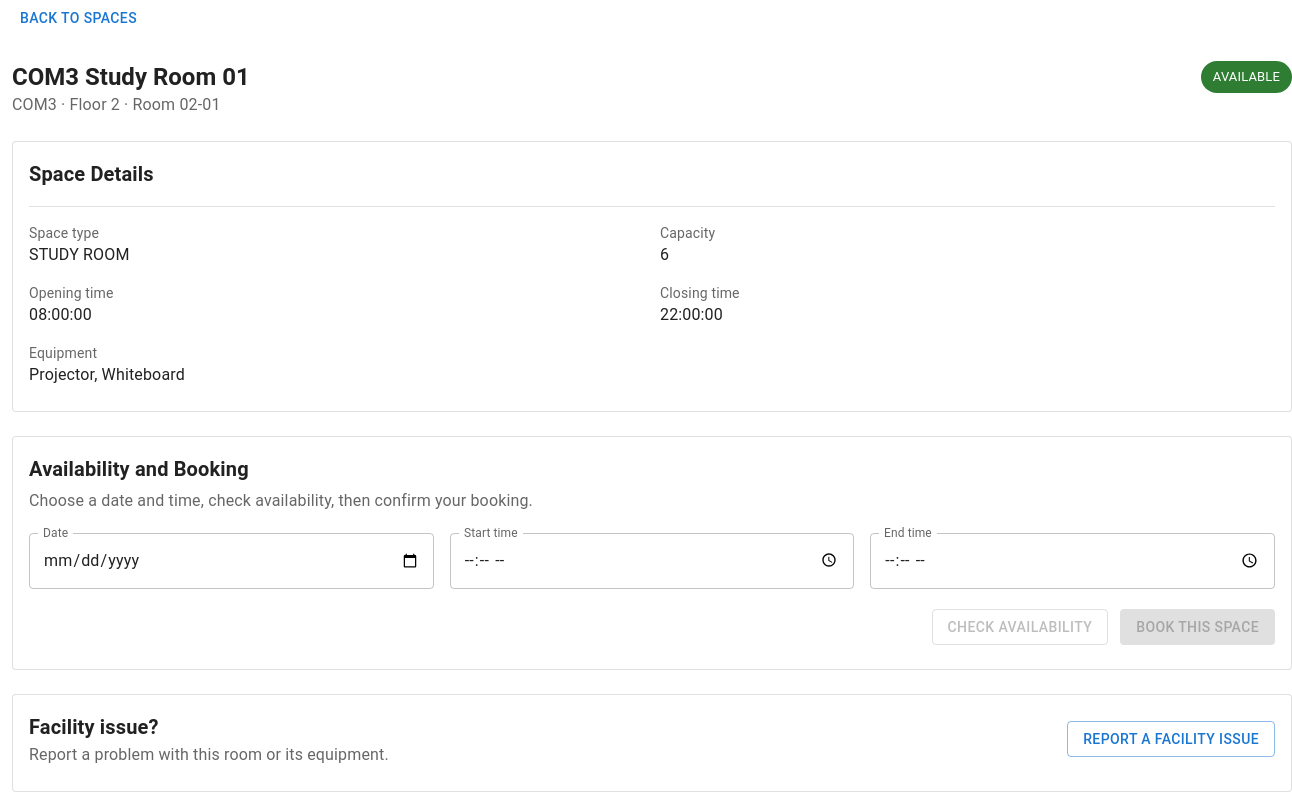
it: SpaceDetailsPage availability and booking › shows a friendly booking conflict when the space is unavailable
Expected: the heading "COM3 Study Room 01" is shown, [12, 60, 250, 92]
Type "2026-08-13" into the date field labelled "Date" at [231, 561], box [29, 533, 434, 589]
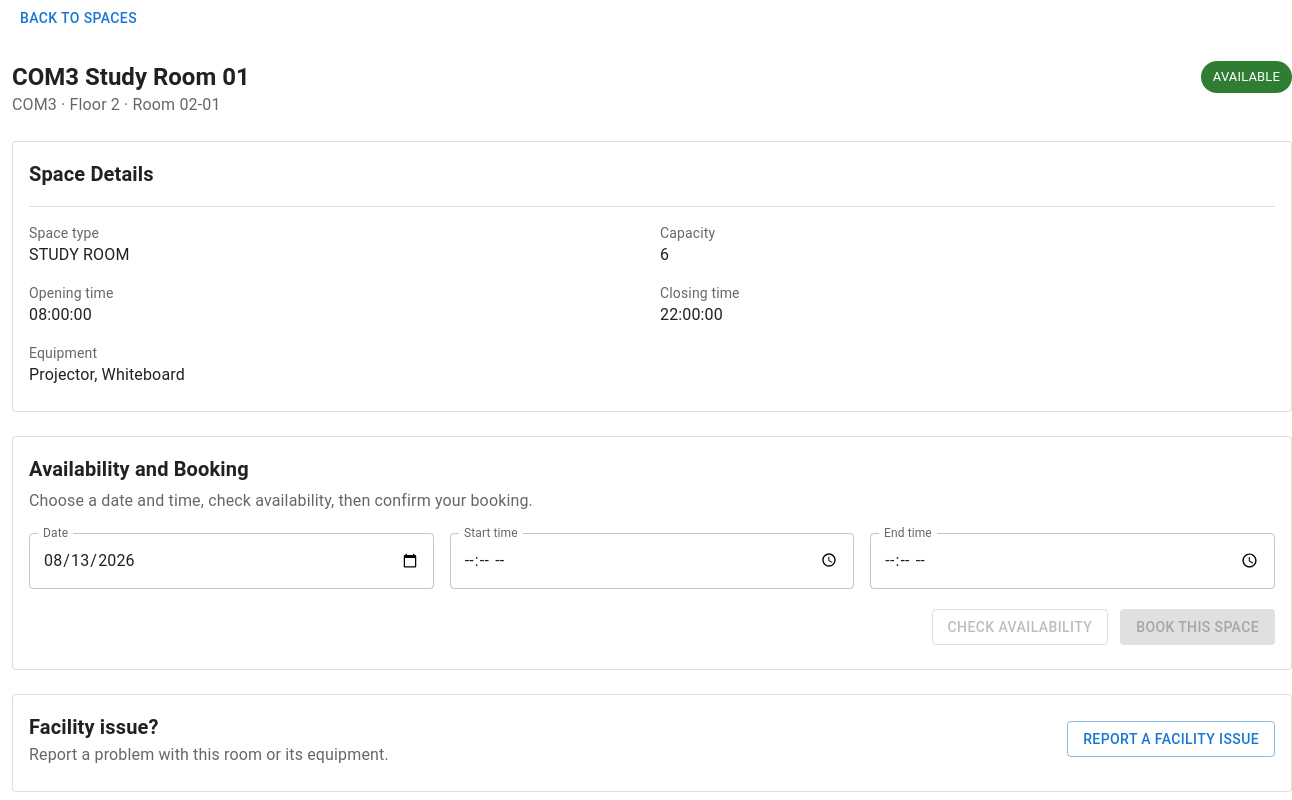
Type "14:00" into the time field labelled "Start time" at [652, 561], box [450, 533, 854, 589]
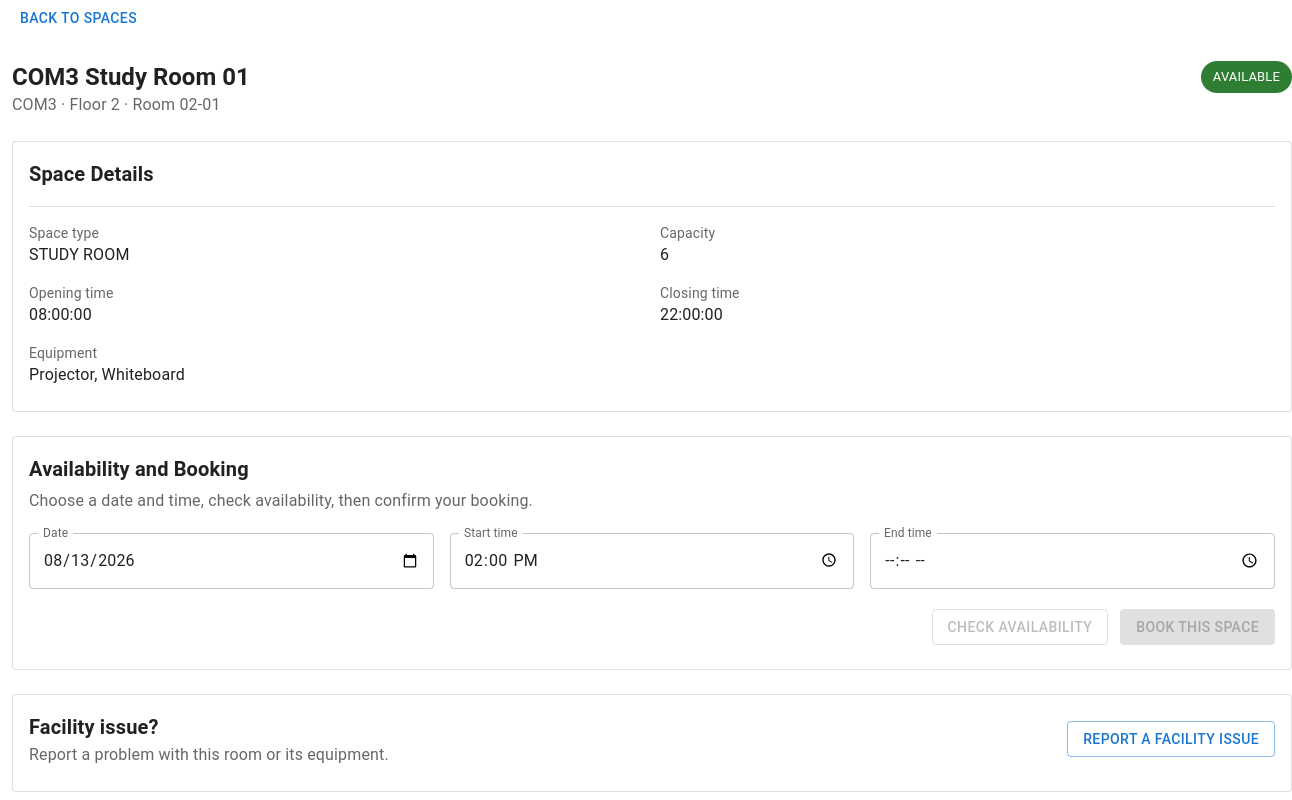
Type "16:00" into the time field labelled "End time" at [1073, 561], box [870, 533, 1275, 589]
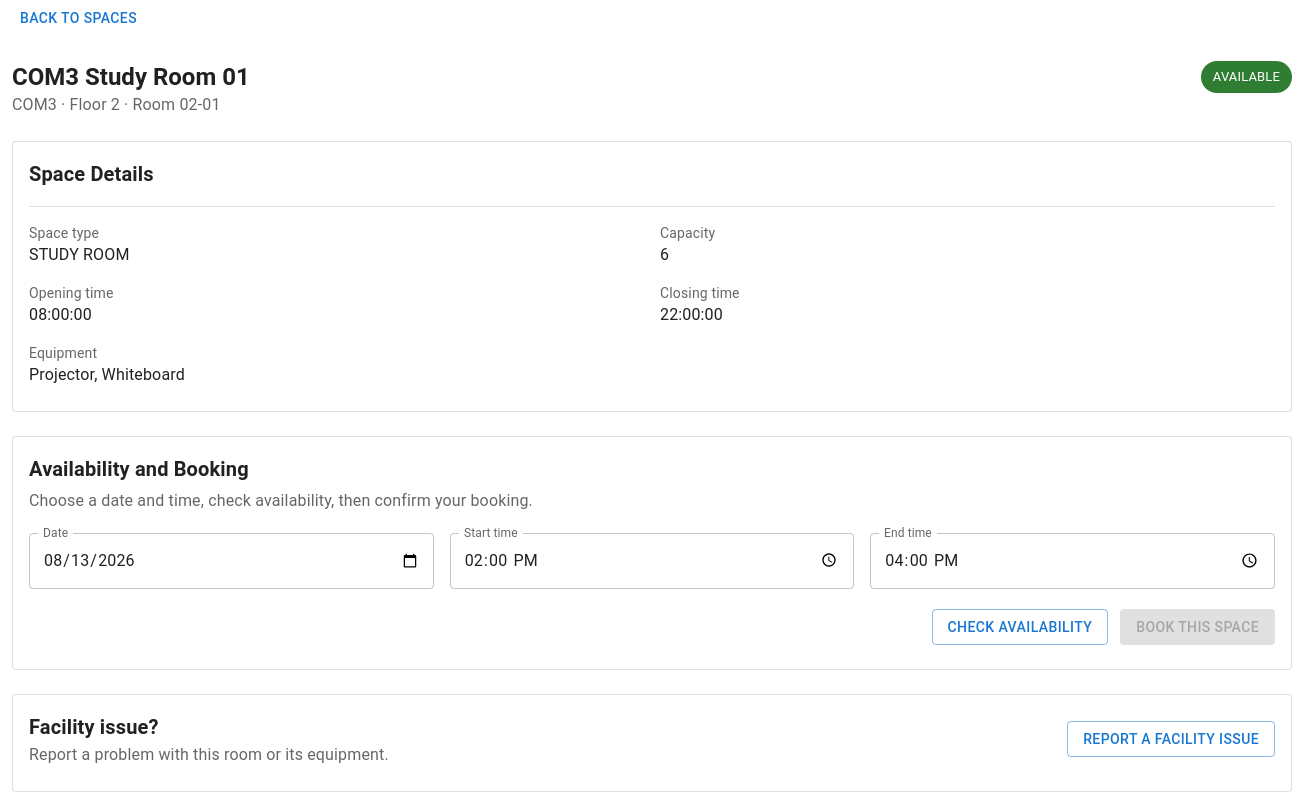
Click the button "Check Availability" at [1020, 627], box [932, 609, 1108, 645]
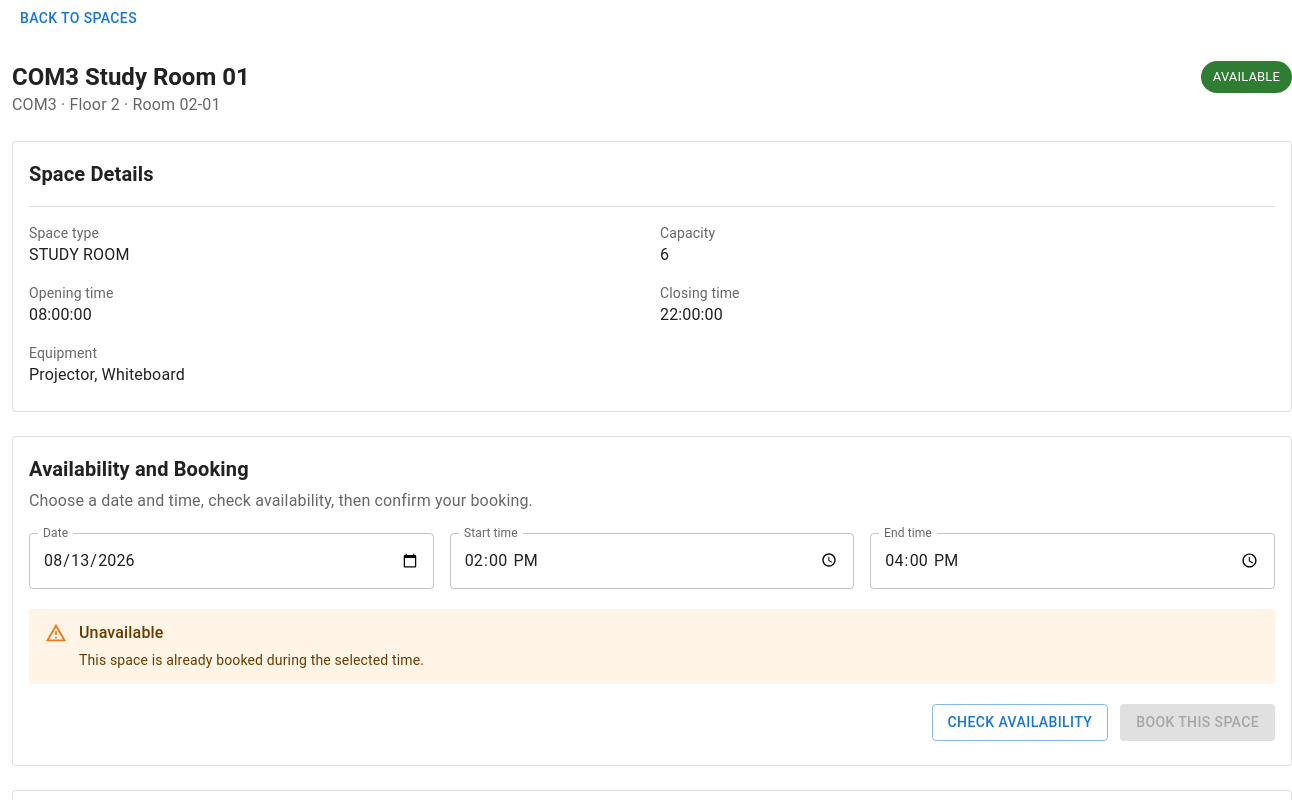
Expected: the button "Book this space" is disabled, [1120, 704, 1275, 741]
Expected: the text "This space is already booked during the selected time." is shown, [79, 652, 424, 668]
